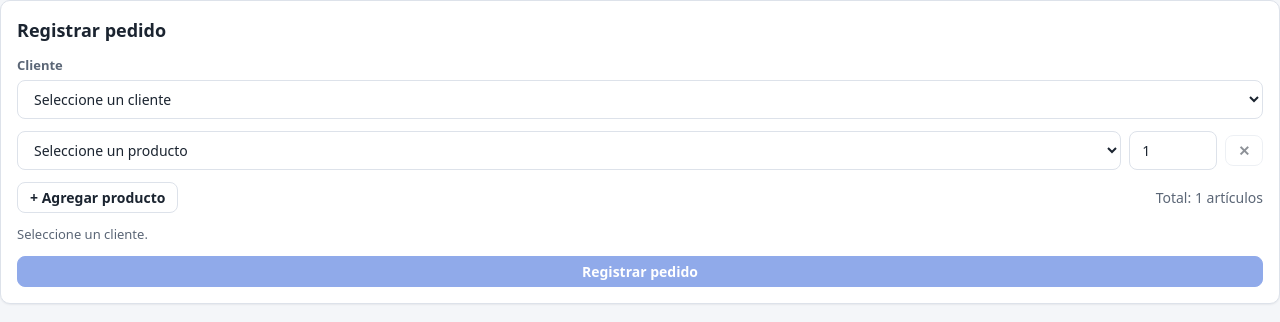
OrderForm › clears the lines but keeps the customer after an accepted order
Select "Aurora Tech · Exprés" in the dropdown labelled "Cliente": (640, 99) [17,80,1263,118]
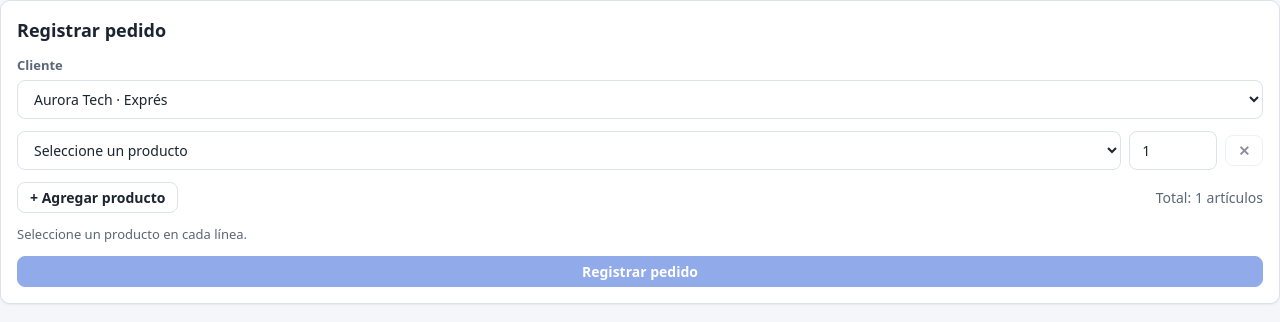
Select "Camiseta · Estándar" in the dropdown named "Producto 1": (569, 150) [17,130,1121,170]
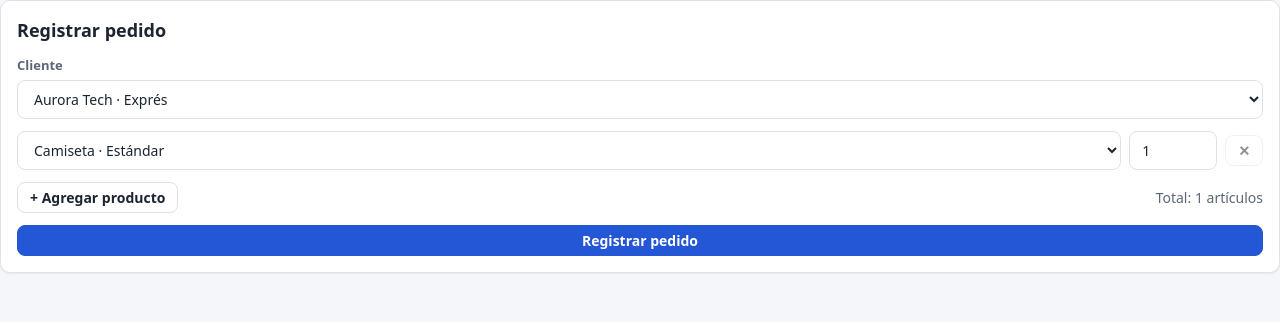
Click the button "Registrar pedido": (640, 240) [17,224,1263,256]
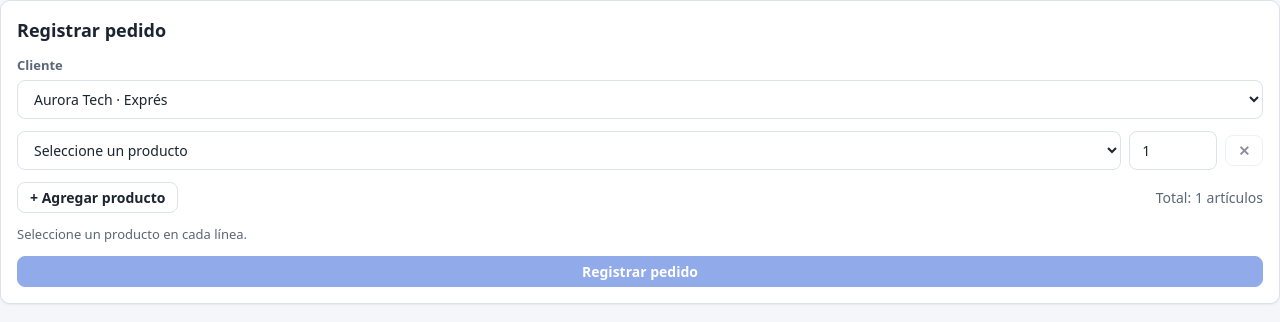
Check: the dropdown named "Producto 1" shows "Seleccione un producto", box [17,130,1121,170]
